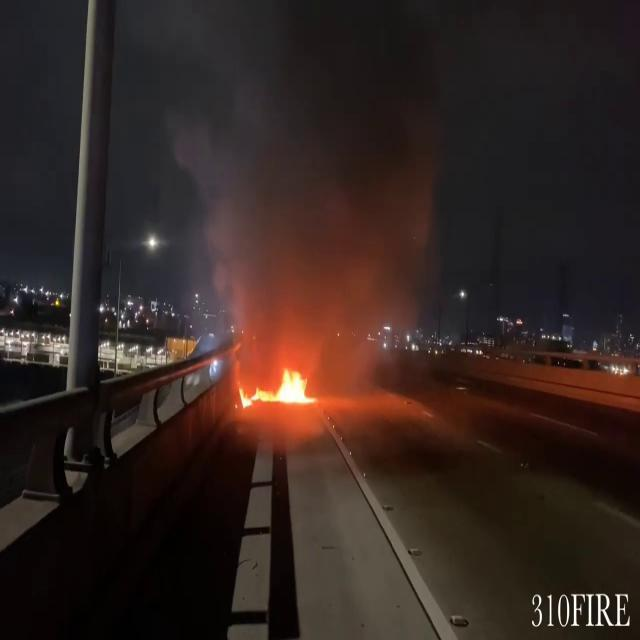Fire: (236, 356, 318, 419)
Smoke: (156, 0, 452, 332)
